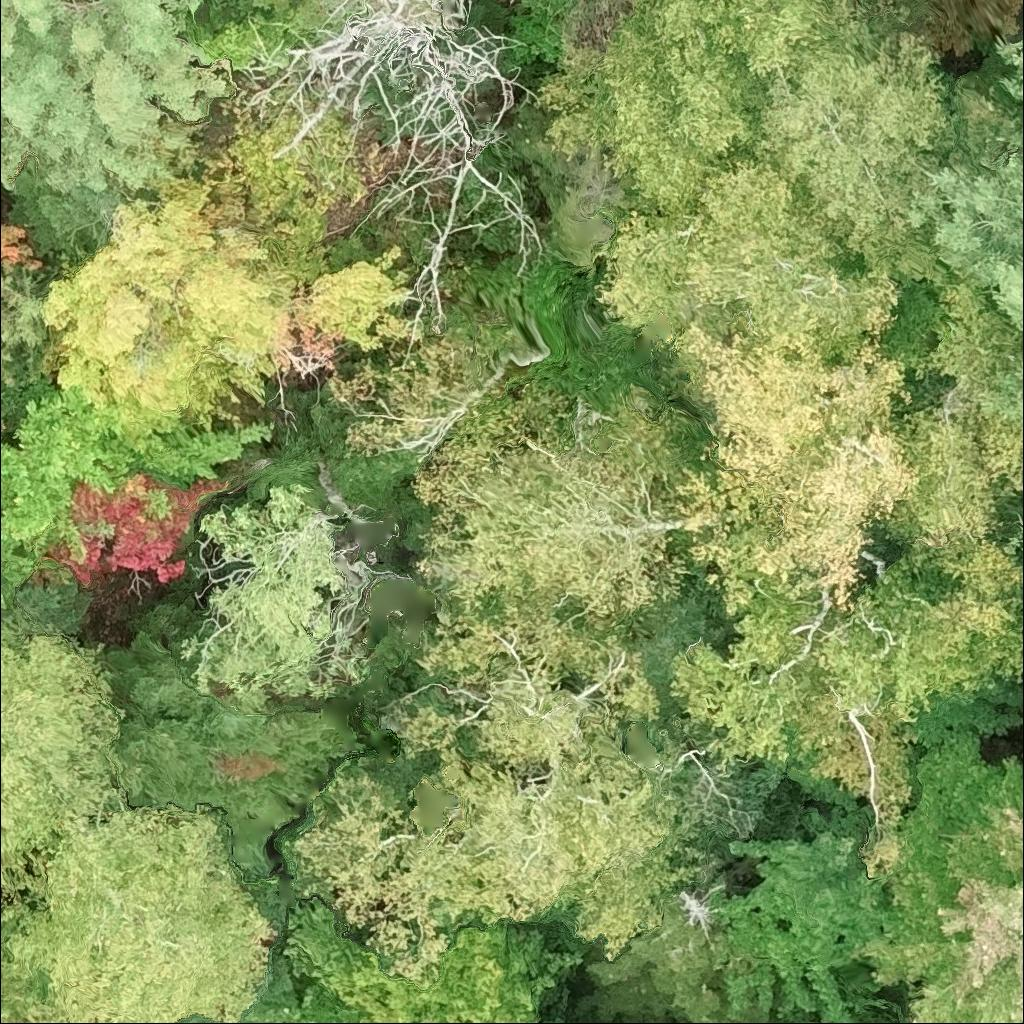crown: (279, 600, 713, 982), (663, 547, 1023, 883), (242, 0, 549, 358), (47, 181, 413, 428), (664, 280, 925, 616), (407, 371, 708, 630), (536, 0, 873, 214), (592, 146, 882, 358), (8, 804, 269, 1023), (752, 28, 963, 285), (0, 383, 276, 563), (874, 268, 1023, 599), (857, 732, 1023, 1023), (0, 0, 231, 192), (183, 484, 370, 708), (707, 803, 893, 1023), (0, 633, 123, 897), (276, 900, 538, 1023), (574, 896, 781, 1023), (905, 125, 1023, 337), (45, 477, 225, 582), (0, 962, 72, 1023), (977, 349, 1023, 442), (255, 985, 357, 1023), (996, 8, 1023, 116), (0, 227, 37, 267), (1020, 463, 1023, 477), (551, 1021, 562, 1023), (426, 1023, 426, 1023)
